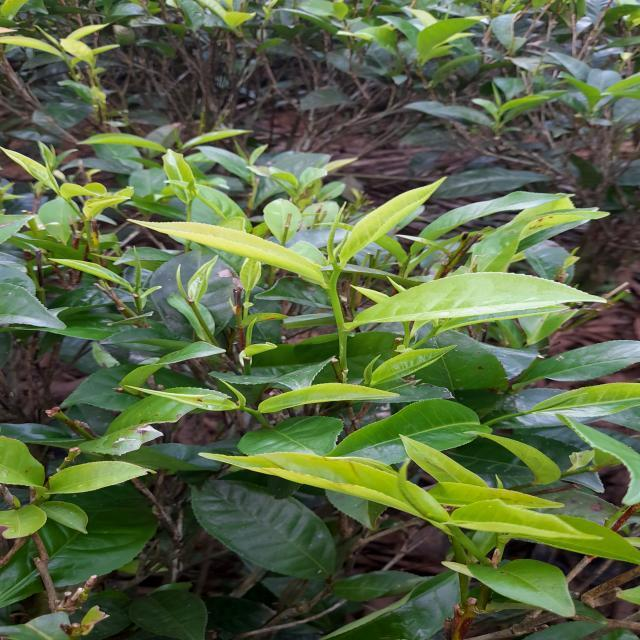Stem: (328, 282, 335, 293), (133, 289, 139, 294)
